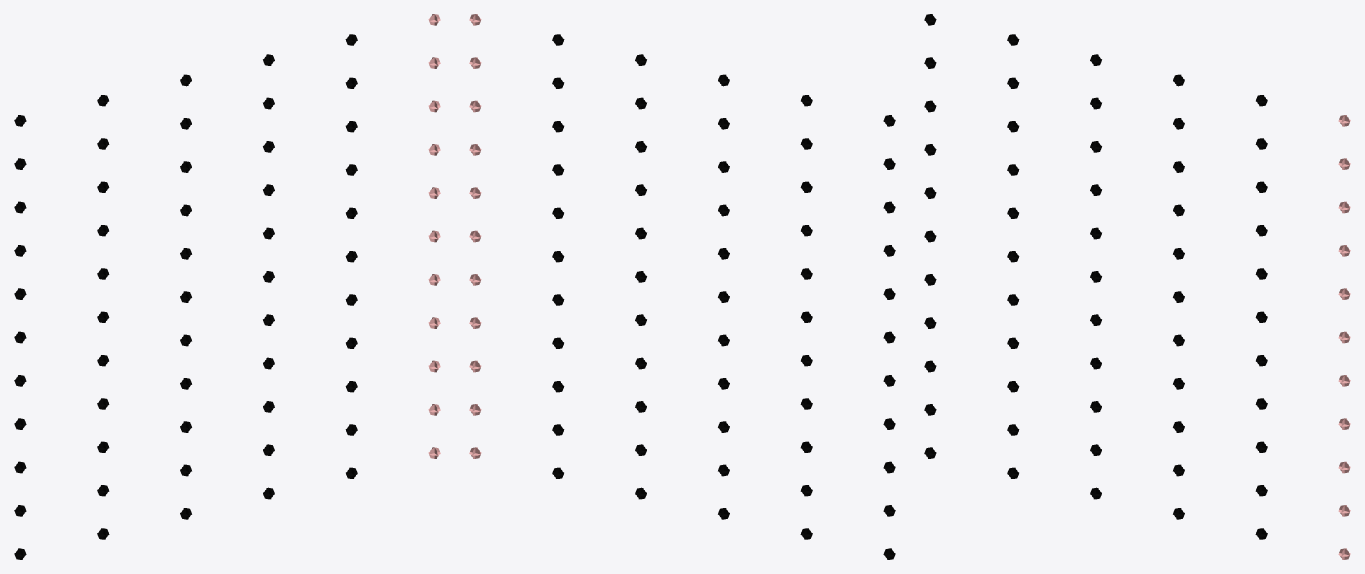
File: match_graph_repetition_code.gltf
3 renders of one model, left to right at view 1: azimuth 30°, elevation 25°; view 2: azimuth 150°, elevation 25°; view 3: azimuth 330°, elevation 25°, orthographic.
Size of the model in its own units: 30.8 by 30.8 by 0.8.
